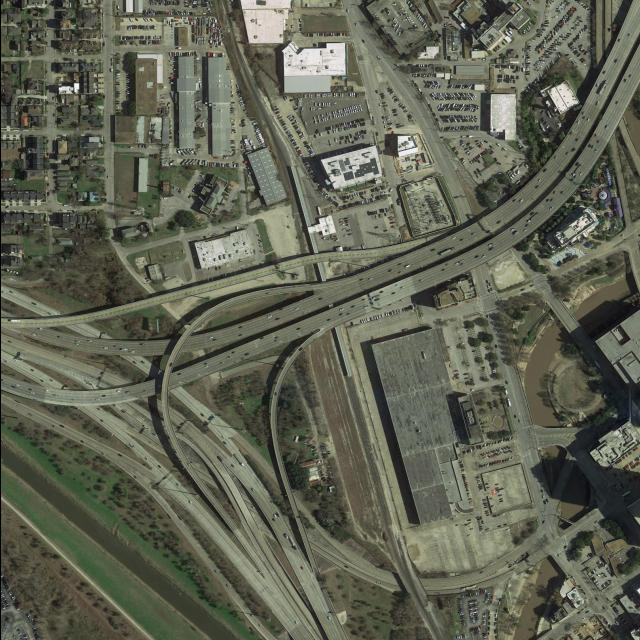large-vehicle: (233, 454, 244, 467), (598, 80, 608, 94), (288, 536, 297, 550), (526, 213, 538, 223), (571, 165, 581, 177), (440, 247, 454, 255), (460, 585, 475, 591), (539, 123, 545, 132), (506, 398, 511, 407), (371, 295, 380, 300), (512, 165, 518, 172), (503, 386, 507, 395), (169, 160, 175, 166), (546, 111, 551, 118), (194, 106, 201, 111), (186, 149, 191, 155), (182, 149, 188, 154), (180, 160, 186, 165), (184, 160, 190, 165), (191, 160, 197, 165), (188, 160, 194, 165), (194, 100, 201, 104), (179, 150, 184, 155), (512, 232, 518, 236), (505, 31, 509, 37), (197, 160, 201, 166), (328, 140, 331, 147), (10, 320, 20, 322), (507, 27, 512, 31), (405, 264, 410, 268), (509, 31, 513, 35), (189, 149, 193, 153), (258, 141, 263, 144), (258, 139, 263, 142), (257, 137, 262, 140), (256, 135, 261, 138), (255, 134, 260, 137), (176, 23, 182, 25), (193, 58, 199, 60), (252, 146, 255, 150), (175, 47, 180, 49), (204, 161, 206, 166), (244, 139, 248, 141), (243, 144, 248, 145), (244, 142, 248, 143)
small-vehicle: (297, 347, 302, 352), (116, 453, 121, 457), (342, 234, 347, 238), (461, 96, 465, 101), (389, 221, 394, 225), (139, 360, 144, 364), (287, 135, 292, 139), (285, 130, 290, 134), (276, 116, 281, 120), (283, 127, 288, 131), (282, 96, 286, 101), (128, 443, 133, 447), (374, 298, 379, 302), (527, 21, 531, 26), (525, 28, 530, 32), (489, 58, 494, 62), (388, 189, 392, 193), (323, 194, 327, 198), (333, 196, 337, 200), (329, 199, 333, 203), (471, 96, 475, 100), (469, 96, 473, 100), (466, 96, 470, 100), (464, 97, 468, 101), (458, 96, 462, 100), (455, 96, 459, 100), (447, 95, 451, 99), (466, 93, 470, 97), (445, 96, 449, 100), (443, 96, 447, 100), (441, 96, 445, 100), (463, 93, 467, 97), (458, 85, 462, 89), (460, 92, 464, 96), (449, 107, 453, 111), (451, 104, 455, 108), (460, 104, 464, 108), (449, 85, 453, 89), (408, 4, 412, 8), (394, 21, 398, 25), (435, 38, 439, 42), (428, 85, 432, 89), (413, 83, 417, 87), (422, 95, 426, 99), (425, 100, 429, 104), (177, 189, 181, 193), (114, 345, 118, 349), (148, 18, 152, 22), (143, 18, 147, 22), (176, 149, 180, 153), (280, 121, 284, 125), (302, 140, 306, 144), (303, 142, 307, 146), (310, 154, 314, 158), (460, 115, 464, 119), (284, 534, 288, 538), (248, 627, 252, 631), (175, 482, 179, 486), (507, 449, 511, 453), (350, 305, 354, 309), (575, 631, 579, 635), (595, 581, 599, 585), (526, 26, 530, 30), (492, 48, 496, 52), (496, 45, 500, 49), (407, 118, 412, 121), (401, 180, 406, 183), (338, 221, 343, 224), (337, 219, 342, 222), (315, 183, 320, 186), (453, 96, 456, 101), (373, 226, 378, 229), (397, 31, 400, 36), (430, 108, 433, 113), (74, 340, 79, 343), (31, 302, 36, 305), (30, 333, 35, 336), (3, 360, 8, 363), (47, 313, 52, 316), (288, 137, 293, 140), (297, 153, 302, 156), (286, 115, 291, 118), (303, 144, 308, 147), (306, 148, 311, 151), (309, 153, 314, 156), (275, 512, 278, 517), (362, 306, 367, 309), (279, 308, 284, 311), (367, 278, 372, 281), (358, 278, 363, 281), (402, 329, 407, 332), (542, 500, 545, 505), (267, 316, 272, 319), (499, 69, 504, 72), (500, 42, 505, 45), (394, 100, 398, 103), (407, 116, 411, 119), (403, 110, 407, 113), (402, 108, 406, 111), (399, 105, 403, 108), (397, 103, 401, 106), (393, 98, 396, 102), (392, 96, 396, 99), (390, 92, 394, 95), (388, 91, 392, 94), (387, 89, 391, 92), (386, 87, 390, 90), (335, 239, 339, 242), (332, 235, 336, 238), (379, 93, 383, 96), (347, 233, 351, 236), (378, 103, 381, 107), (371, 116, 374, 120), (382, 121, 385, 125), (383, 125, 386, 129), (380, 95, 384, 98), (371, 194, 374, 198), (343, 217, 347, 220), (319, 190, 323, 193), (325, 196, 329, 199), (335, 205, 339, 208), (353, 193, 356, 197), (337, 110, 340, 114), (351, 109, 354, 113), (321, 118, 324, 122), (317, 119, 320, 123), (316, 115, 319, 119), (364, 130, 367, 134), (348, 139, 351, 143), (344, 140, 347, 144), (329, 126, 332, 130), (451, 96, 454, 100), (438, 96, 441, 100), (436, 97, 439, 101), (433, 96, 436, 100), (390, 225, 394, 228), (382, 229, 386, 232), (456, 85, 459, 89), (461, 85, 464, 89), (468, 85, 471, 89), (433, 92, 436, 96), (438, 93, 441, 97), (451, 93, 454, 97), (453, 92, 456, 96), (437, 108, 441, 111), (456, 108, 459, 112), (452, 107, 455, 111), (442, 108, 446, 111), (440, 108, 443, 112), (441, 115, 444, 119), (448, 115, 451, 119), (451, 115, 454, 119), (453, 115, 456, 119), (458, 108, 462, 111), (437, 105, 440, 109), (463, 104, 466, 108), (440, 104, 443, 108), (447, 104, 450, 108), (458, 104, 461, 108), (468, 104, 471, 108), (474, 105, 477, 109), (470, 108, 473, 112), (416, 14, 419, 18), (419, 17, 422, 21), (420, 19, 423, 23), (424, 24, 427, 28), (433, 31, 436, 35), (446, 85, 450, 88), (395, 29, 398, 33), (393, 25, 396, 29), (391, 24, 394, 28), (397, 25, 400, 29), (393, 19, 396, 23), (392, 18, 395, 22), (387, 11, 390, 15), (436, 34, 440, 37), (437, 36, 440, 40), (424, 84, 427, 88), (437, 122, 440, 126), (422, 80, 425, 84), (428, 81, 431, 85), (431, 81, 434, 85), (436, 81, 439, 85), (426, 84, 429, 88), (433, 85, 436, 89), (436, 85, 439, 89), (481, 58, 485, 61), (432, 113, 435, 117), (427, 104, 430, 108), (418, 74, 421, 78), (422, 74, 425, 78), (417, 88, 420, 92), (115, 58, 119, 61), (175, 188, 178, 192), (179, 190, 182, 194), (169, 11, 172, 15), (131, 361, 135, 364), (139, 343, 143, 346), (74, 343, 78, 346), (1, 291, 5, 294), (12, 359, 16, 362), (145, 18, 149, 21), (121, 18, 124, 22), (106, 175, 109, 179), (92, 157, 96, 160), (175, 12, 178, 16), (182, 12, 185, 16), (297, 151, 301, 154), (291, 140, 295, 143), (295, 148, 299, 151), (296, 150, 300, 153), (288, 117, 292, 120), (290, 122, 294, 125), (292, 125, 296, 128), (294, 128, 298, 131), (295, 130, 299, 133), (286, 132, 290, 135), (297, 133, 301, 136), (235, 91, 239, 94), (274, 108, 278, 111), (275, 111, 279, 114), (276, 115, 280, 118), (278, 119, 282, 122), (280, 123, 284, 126), (282, 126, 286, 129), (296, 131, 300, 134), (298, 135, 302, 138), (299, 137, 303, 140), (294, 120, 297, 124), (305, 146, 309, 149), (301, 132, 304, 136), (285, 95, 288, 99), (292, 106, 296, 109), (293, 108, 297, 111), (303, 121, 306, 125), (173, 17, 179, 19), (240, 104, 244, 107), (239, 102, 243, 105), (238, 100, 242, 103), (240, 119, 244, 122), (240, 122, 244, 125), (463, 115, 466, 119), (271, 519, 275, 522), (327, 616, 330, 620), (251, 488, 254, 492), (200, 413, 203, 417), (221, 436, 225, 439), (133, 475, 136, 479), (144, 457, 148, 460), (186, 462, 189, 466), (481, 457, 485, 460), (343, 565, 347, 568), (469, 449, 472, 453), (478, 445, 481, 449), (485, 443, 488, 447), (479, 453, 483, 456), (468, 115, 471, 119), (390, 292, 394, 295), (394, 284, 398, 287), (388, 269, 392, 272), (397, 263, 401, 266), (365, 318, 368, 322), (377, 315, 380, 319), (380, 314, 383, 318), (386, 312, 389, 316), (273, 336, 277, 339), (258, 242, 262, 245), (258, 245, 262, 248), (259, 250, 263, 253), (275, 318, 279, 321), (295, 328, 299, 331), (339, 308, 343, 311), (338, 313, 342, 316), (345, 313, 349, 316), (390, 311, 393, 315), (504, 381, 507, 385), (59, 425, 63, 428), (7, 591, 11, 594), (8, 593, 12, 596), (401, 308, 404, 312), (456, 281, 460, 284), (485, 463, 488, 467), (568, 634, 572, 637), (581, 618, 585, 621), (479, 590, 482, 594), (584, 611, 588, 614), (614, 622, 618, 625), (566, 558, 569, 562), (563, 545, 566, 549), (545, 499, 548, 503), (541, 520, 544, 524), (467, 522, 471, 525), (597, 560, 600, 564), (589, 575, 593, 578), (593, 579, 596, 583), (498, 498, 502, 501), (495, 460, 498, 464), (459, 635, 462, 639), (259, 337, 263, 340), (530, 39, 534, 42), (517, 146, 521, 149), (519, 146, 522, 150), (512, 160, 516, 163), (545, 125, 549, 128), (543, 121, 546, 125), (494, 47, 498, 50), (537, 33, 541, 36), (556, 54, 560, 57), (549, 51, 553, 54), (546, 65, 549, 69), (536, 77, 539, 81), (539, 74, 542, 78), (516, 144, 520, 147), (332, 238, 337, 240), (386, 123, 391, 125), (391, 109, 396, 111), (375, 210, 377, 215), (380, 192, 385, 194), (398, 200, 400, 205), (387, 217, 392, 219), (316, 129, 318, 134), (444, 17, 449, 19), (167, 11, 169, 16), (138, 144, 140, 149), (115, 109, 120, 111), (162, 86, 167, 88), (102, 347, 107, 349), (129, 351, 134, 353), (56, 336, 61, 338), (288, 13, 293, 15), (173, 20, 178, 22), (294, 308, 299, 310), (481, 621, 486, 623), (524, 73, 529, 75), (498, 64, 500, 69), (553, 16, 558, 18), (406, 114, 409, 117), (401, 106, 404, 109), (361, 40, 364, 43), (370, 198, 373, 201), (378, 187, 381, 190), (348, 195, 351, 198), (405, 158, 408, 161), (354, 23, 357, 26), (331, 112, 334, 115), (339, 110, 342, 113), (340, 113, 343, 116), (342, 113, 345, 116), (356, 132, 359, 135), (313, 135, 316, 138), (319, 133, 322, 136), (326, 131, 329, 134), (431, 97, 434, 100), (472, 94, 475, 97), (436, 94, 439, 97), (463, 85, 466, 88), (466, 85, 469, 88), (431, 94, 434, 97), (441, 94, 444, 97), (446, 93, 449, 96), (449, 94, 452, 97), (456, 93, 459, 96), (458, 93, 461, 96), (454, 108, 457, 111), (447, 108, 450, 111), (445, 108, 448, 111), (439, 116, 442, 119), (461, 108, 464, 111), (444, 116, 447, 119), (446, 116, 449, 119), (454, 104, 457, 107), (466, 108, 469, 111), (472, 105, 475, 108), (476, 106, 479, 109), (472, 109, 475, 112), (468, 108, 471, 111), (454, 85, 457, 88), (406, 1, 409, 4), (417, 16, 420, 19), (421, 21, 424, 24), (422, 23, 425, 26), (386, 9, 389, 12), (426, 81, 429, 84), (431, 85, 434, 88), (437, 86, 440, 89), (434, 118, 437, 121), (157, 465, 160, 468), (134, 18, 137, 21), (129, 19, 132, 22), (290, 139, 293, 142), (292, 142, 295, 145), (273, 106, 276, 109), (376, 56, 379, 59), (291, 116, 294, 119), (186, 12, 189, 15), (465, 115, 468, 118), (225, 584, 228, 587), (294, 621, 297, 624), (300, 567, 303, 570), (230, 464, 233, 467), (273, 515, 276, 518), (316, 461, 319, 464), (318, 468, 321, 471), (319, 472, 322, 475), (29, 620, 32, 623), (27, 616, 30, 619), (2, 607, 5, 610), (148, 441, 151, 444), (188, 500, 191, 503), (16, 608, 19, 611), (503, 447, 506, 450), (506, 446, 509, 449), (484, 456, 487, 459), (487, 455, 490, 458), (478, 465, 481, 468), (480, 465, 483, 468), (495, 449, 498, 452), (491, 442, 494, 445), (475, 446, 478, 449), (504, 438, 507, 441), (11, 598, 14, 601), (379, 291, 382, 294), (468, 279, 471, 282), (513, 415, 516, 418), (49, 379, 52, 382), (468, 281, 471, 284), (570, 576, 573, 579), (573, 579, 576, 582), (574, 630, 577, 633), (577, 633, 580, 636), (594, 598, 597, 601), (637, 457, 640, 460), (631, 461, 634, 464), (619, 470, 622, 473), (616, 613, 619, 616), (606, 623, 609, 626), (584, 606, 587, 609), (602, 584, 605, 587), (594, 521, 597, 524), (595, 562, 598, 565), (592, 570, 595, 573), (597, 575, 600, 578), (600, 564, 603, 567), (606, 567, 609, 570), (607, 569, 610, 572), (621, 561, 624, 564), (501, 460, 504, 463), (510, 457, 513, 460), (463, 635, 466, 638), (536, 35, 539, 38), (551, 61, 554, 64), (540, 30, 543, 33), (404, 112, 408, 114), (373, 120, 375, 124), (387, 126, 391, 128), (385, 116, 389, 118), (398, 123, 402, 125), (382, 105, 386, 107), (381, 102, 385, 104), (392, 111, 396, 113), (346, 230, 350, 232), (375, 215, 377, 219), (383, 209, 385, 213), (365, 199, 367, 203), (400, 179, 404, 181), (400, 176, 404, 178), (371, 14, 375, 16), (374, 17, 378, 19), (341, 229, 345, 231), (320, 192, 324, 194), (343, 220, 347, 222), (343, 201, 347, 203), (339, 93, 341, 97), (329, 116, 331, 120), (328, 112, 330, 116), (337, 114, 339, 118), (339, 114, 341, 118), (354, 109, 356, 113), (314, 120, 316, 124), (346, 126, 348, 130), (371, 142, 373, 146), (360, 135, 362, 139), (355, 132, 357, 136), (339, 123, 341, 127), (341, 123, 343, 127), (348, 121, 350, 125), (357, 123, 359, 127), (348, 125, 350, 129), (347, 135, 349, 139), (343, 108, 345, 112), (354, 105, 356, 109), (334, 138, 336, 142), (338, 128, 340, 132), (375, 19, 379, 21), (381, 27, 385, 29), (385, 32, 389, 34), (458, 115, 460, 119), (456, 104, 458, 108), (466, 104, 468, 108), (470, 104, 472, 108), (406, 17, 410, 19), (408, 20, 412, 22), (409, 22, 413, 24), (413, 27, 417, 29), (402, 19, 406, 21), (385, 33, 389, 35), (390, 40, 394, 42), (391, 42, 395, 44), (399, 8, 403, 10), (434, 43, 438, 45), (465, 59, 469, 61), (446, 22, 450, 24), (447, 24, 451, 26), (449, 26, 453, 28), (451, 27, 455, 29), (394, 64, 398, 66), (412, 73, 414, 77), (414, 73, 416, 77), (341, 93, 343, 97), (335, 93, 337, 97), (115, 64, 119, 66), (155, 36, 157, 40), (153, 36, 155, 40), (149, 36, 151, 40), (147, 36, 149, 40), (145, 36, 147, 40), (114, 62, 118, 64), (115, 66, 119, 68), (115, 68, 119, 70), (115, 78, 119, 80), (157, 36, 159, 40), (123, 36, 125, 40), (155, 41, 157, 45), (149, 40, 151, 44), (151, 40, 153, 44), (115, 87, 119, 89), (195, 217, 199, 219), (212, 233, 216, 235), (150, 11, 152, 15), (152, 12, 154, 16), (141, 144, 143, 148), (172, 9, 176, 11), (144, 144, 146, 148), (115, 93, 119, 95), (125, 96, 129, 98), (115, 107, 119, 109), (125, 90, 129, 92), (125, 81, 129, 83), (167, 102, 169, 106), (87, 340, 91, 342), (52, 113, 54, 117), (7, 341, 11, 343), (37, 328, 41, 330), (127, 26, 129, 30), (129, 26, 131, 30), (119, 36, 121, 40), (8, 178, 12, 180), (145, 280, 149, 282), (110, 69, 112, 73), (110, 58, 112, 62), (102, 13, 104, 17), (180, 12, 182, 16), (292, 144, 296, 146), (294, 147, 298, 149), (289, 119, 293, 121), (293, 127, 297, 129), (229, 146, 233, 148), (236, 93, 240, 95), (172, 69, 176, 71), (185, 12, 187, 16), (303, 94, 305, 98), (329, 93, 331, 97), (297, 102, 301, 104), (229, 142, 233, 144), (229, 140, 233, 142), (242, 135, 246, 137), (178, 52, 180, 56), (182, 53, 184, 57), (188, 52, 190, 56), (169, 64, 173, 66), (174, 52, 176, 56), (199, 83, 201, 87), (230, 80, 232, 84), (187, 6, 191, 8), (187, 4, 191, 6), (169, 52, 171, 56), (196, 0, 200, 2), (171, 24, 173, 28), (213, 157, 217, 159), (209, 163, 211, 167), (213, 163, 215, 167), (217, 163, 219, 167), (227, 163, 229, 167), (229, 114, 233, 116), (240, 125, 244, 127), (238, 97, 242, 99), (250, 506, 254, 508), (15, 629, 19, 631), (28, 619, 32, 621), (32, 628, 36, 630), (23, 637, 27, 639), (17, 633, 21, 635), (4, 604, 8, 606), (32, 631, 36, 633), (100, 453, 104, 455), (376, 582, 380, 584), (500, 448, 504, 450), (502, 451, 506, 453), (489, 451, 493, 453), (489, 442, 491, 446), (487, 452, 491, 454), (500, 439, 502, 443), (508, 437, 510, 441), (26, 615, 30, 617), (364, 319, 366, 323), (397, 272, 401, 274), (360, 320, 362, 324), (369, 317, 371, 321), (373, 316, 375, 320), (375, 315, 377, 319), (384, 312, 386, 316), (388, 312, 390, 316), (360, 299, 364, 301), (265, 293, 269, 295), (326, 319, 330, 321), (318, 298, 322, 300), (10, 597, 14, 599), (464, 378, 468, 380), (463, 373, 467, 375), (458, 338, 462, 340), (440, 269, 444, 271), (398, 309, 400, 313), (411, 305, 413, 309), (399, 287, 403, 289), (418, 280, 422, 282), (430, 249, 434, 251), (449, 364, 451, 368), (453, 370, 457, 372), (447, 346, 451, 348), (454, 263, 458, 265), (321, 451, 325, 453), (434, 593, 438, 595), (496, 609, 498, 613), (304, 442, 308, 444), (490, 600, 492, 604), (542, 494, 544, 498), (488, 612, 490, 616), (471, 600, 475, 602), (472, 608, 476, 610), (473, 615, 477, 617), (473, 617, 477, 619), (621, 468, 623, 472), (540, 489, 542, 493), (492, 515, 496, 517), (496, 514, 500, 516), (500, 513, 504, 515), (505, 529, 509, 531), (485, 514, 489, 516), (468, 502, 472, 504), (478, 489, 482, 491), (494, 487, 498, 489), (485, 529, 489, 531), (474, 591, 476, 595), (474, 587, 478, 589), (478, 572, 482, 574), (460, 624, 464, 626), (460, 620, 464, 622), (486, 593, 490, 595), (484, 599, 488, 601), (475, 517, 479, 519), (478, 630, 480, 634), (481, 623, 485, 625), (481, 619, 485, 621), (483, 601, 487, 603), (230, 352, 234, 354), (522, 62, 524, 66), (522, 48, 524, 52), (525, 61, 529, 63), (525, 59, 529, 61), (526, 44, 530, 46), (526, 50, 530, 52), (498, 192, 500, 196), (508, 65, 510, 69), (551, 49, 555, 51), (537, 65, 541, 67), (540, 62, 544, 64), (547, 53, 551, 55), (534, 69, 538, 71), (538, 32, 542, 34), (541, 29, 545, 31), (543, 25, 547, 27), (558, 6, 562, 8), (564, 4, 568, 6), (565, 2, 569, 4), (375, 90, 377, 93), (386, 118, 389, 120), (393, 114, 396, 116), (381, 97, 384, 99), (363, 122, 365, 125), (367, 199, 369, 202), (361, 201, 363, 204), (340, 224, 343, 226), (345, 224, 348, 226), (344, 222, 347, 224), (356, 193, 358, 196), (333, 115, 335, 118), (335, 115, 337, 118), (333, 111, 335, 114), (344, 112, 346, 115), (348, 111, 350, 114), (350, 110, 352, 113), (326, 113, 328, 116), (324, 118, 326, 121), (322, 103, 324, 106), (348, 93, 350, 96), (350, 93, 352, 96), (310, 107, 312, 110), (314, 103, 316, 106), (318, 103, 320, 106), (326, 103, 328, 106), (328, 103, 330, 106), (313, 117, 315, 120), (320, 114, 322, 117), (356, 109, 358, 112), (360, 108, 362, 111), (337, 124, 339, 127), (358, 136, 360, 139), (369, 143, 371, 146), (356, 137, 358, 140), (343, 123, 345, 126), (345, 123, 347, 126), (355, 124, 357, 127), (345, 108, 347, 111), (349, 107, 351, 110), (352, 106, 354, 109), (356, 105, 358, 108), (358, 105, 360, 108), (314, 131, 316, 134), (332, 130, 334, 133), (335, 129, 337, 132), (340, 128, 342, 131), (444, 93, 446, 96), (456, 116, 458, 119), (464, 108, 466, 111), (442, 105, 444, 108), (452, 85, 454, 88), (392, 3, 395, 5), (441, 128, 443, 131), (471, 59, 474, 61), (393, 69, 396, 71), (424, 74, 426, 77), (429, 74, 432, 76), (411, 80, 413, 83), (159, 36, 161, 39), (115, 70, 118, 72), (116, 73, 119, 75), (157, 41, 159, 44), (137, 36, 139, 39), (121, 37, 123, 40), (128, 37, 130, 40), (131, 36, 133, 39), (133, 36, 135, 39), (135, 36, 137, 39), (139, 36, 141, 39), (141, 36, 143, 39), (141, 41, 143, 44), (143, 41, 145, 44), (145, 41, 147, 44), (123, 42, 125, 45), (151, 2, 153, 5), (153, 2, 155, 5), (155, 2, 157, 5), (115, 97, 118, 99), (125, 42, 127, 45), (333, 93, 335, 96), (121, 349, 127, 350), (46, 153, 48, 156), (45, 33, 47, 36), (45, 71, 47, 74), (9, 291, 12, 293), (131, 26, 133, 29), (133, 26, 135, 29), (135, 26, 137, 29), (137, 26, 139, 29), (145, 26, 147, 29), (147, 26, 149, 29), (151, 26, 153, 29), (153, 26, 155, 29), (46, 193, 48, 196), (89, 165, 92, 167), (85, 158, 88, 160), (116, 12, 118, 15), (110, 63, 112, 66), (102, 43, 104, 46), (102, 34, 104, 37), (236, 85, 238, 88), (236, 89, 239, 91), (309, 95, 311, 98), (291, 25, 293, 28), (307, 33, 309, 36), (316, 33, 318, 36), (324, 33, 326, 36), (330, 33, 332, 36), (346, 9, 348, 12), (315, 94, 317, 97), (321, 94, 323, 97), (325, 94, 327, 97), (327, 94, 329, 97), (301, 107, 303, 110), (180, 53, 182, 56), (170, 56, 173, 58), (184, 5, 187, 7), (211, 163, 213, 166), (214, 569, 216, 572), (258, 624, 260, 627), (320, 460, 322, 463), (328, 474, 331, 476), (492, 454, 495, 456), (498, 449, 501, 451), (494, 453, 497, 455), (492, 450, 495, 452), (497, 453, 500, 455), (499, 452, 502, 454), (505, 451, 508, 453), (483, 464, 485, 467), (467, 449, 469, 452), (464, 450, 466, 453), (483, 444, 485, 447), (494, 441, 496, 444), (510, 437, 512, 440), (482, 453, 485, 455), (485, 452, 488, 454), (362, 320, 364, 323), (392, 311, 394, 314), (257, 240, 260, 242), (460, 343, 463, 345), (466, 330, 469, 332), (471, 350, 474, 352), (482, 370, 485, 372), (486, 315, 488, 318), (518, 419, 520, 422), (494, 345, 496, 348), (470, 390, 473, 392), (396, 310, 398, 313), (469, 285, 472, 287), (452, 377, 454, 380), (444, 264, 447, 266), (470, 287, 473, 289), (488, 462, 490, 465), (490, 462, 492, 465), (487, 627, 489, 630), (497, 602, 499, 605), (494, 614, 496, 617), (494, 623, 496, 626), (557, 554, 559, 557), (490, 596, 492, 599), (472, 602, 475, 604), (469, 614, 472, 616), (469, 612, 472, 614), (468, 607, 471, 609), (468, 605, 471, 607), (468, 603, 471, 605), (473, 610, 476, 612), (581, 609, 584, 611), (493, 461, 495, 464), (627, 464, 629, 467), (615, 612, 618, 614), (453, 515, 456, 517), (630, 462, 632, 465), (629, 463, 631, 466), (587, 555, 589, 558), (603, 619, 605, 622), (599, 574, 602, 576), (604, 564, 606, 567), (598, 565, 601, 567), (469, 616, 472, 618), (470, 620, 473, 622), (477, 522, 480, 524), (479, 530, 482, 532), (478, 526, 481, 528), (467, 535, 470, 537), (470, 528, 473, 530), (499, 500, 502, 502), (494, 484, 497, 486), (498, 460, 500, 463), (507, 458, 509, 461), (464, 482, 467, 484), (477, 482, 480, 484), (478, 484, 481, 486), (481, 521, 483, 524), (461, 594, 463, 597), (476, 592, 478, 595), (458, 610, 461, 612), (458, 606, 461, 608), (460, 617, 463, 619), (485, 595, 488, 597), (485, 597, 488, 599), (456, 636, 458, 639), (458, 636, 460, 639), (483, 636, 486, 638), (482, 635, 485, 637), (482, 633, 485, 635), (488, 632, 490, 635), (477, 627, 479, 630), (482, 617, 485, 619), (522, 56, 524, 59), (525, 71, 528, 73), (525, 69, 528, 71), (525, 57, 528, 59), (557, 123, 560, 125), (557, 125, 560, 127), (507, 80, 509, 83), (532, 38, 535, 40), (536, 67, 539, 69), (542, 60, 545, 62), (534, 65, 537, 67), (536, 61, 539, 63), (540, 56, 543, 58), (542, 54, 545, 56), (544, 52, 547, 54), (560, 10, 563, 12), (545, 68, 547, 71), (408, 28, 413, 29), (115, 113, 120, 114), (195, 79, 200, 80), (523, 68, 524, 73), (523, 30, 524, 35), (408, 121, 412, 122), (373, 16, 377, 17), (326, 117, 327, 121), (346, 112, 348, 114), (357, 109, 359, 111), (353, 93, 354, 97), (312, 108, 314, 110), (352, 121, 354, 123), (383, 31, 387, 32), (407, 19, 411, 20), (412, 25, 416, 26), (386, 36, 390, 37), (388, 37, 392, 38), (389, 39, 393, 40), (392, 44, 396, 45), (115, 72, 119, 73), (115, 76, 119, 77), (115, 82, 119, 83), (115, 84, 119, 85), (147, 41, 148, 45), (147, 9, 151, 10), (163, 0, 164, 4), (114, 101, 118, 102), (114, 103, 118, 104), (125, 99, 129, 100), (129, 147, 133, 148), (122, 41, 123, 45), (52, 97, 53, 101), (119, 42, 121, 44), (89, 178, 93, 179), (63, 205, 67, 206), (287, 135, 291, 136), (229, 145, 233, 146), (289, 11, 293, 12), (297, 99, 301, 100), (298, 101, 302, 102), (297, 105, 301, 106), (186, 52, 187, 56), (190, 52, 191, 56), (192, 52, 193, 56), (196, 81, 200, 82), (231, 91, 232, 95), (231, 132, 235, 133), (231, 126, 235, 127), (176, 52, 177, 56), (172, 52, 173, 56), (192, 3, 196, 4), (196, 2, 200, 3), (222, 53, 223, 57), (216, 163, 217, 167), (223, 158, 227, 159), (222, 163, 223, 167), (250, 614, 252, 616), (490, 455, 492, 457), (497, 441, 499, 443), (491, 370, 495, 371), (473, 619, 477, 620), (477, 525, 481, 526), (489, 498, 491, 500), (484, 511, 488, 512), (504, 459, 506, 461), (458, 462, 462, 463), (483, 501, 485, 503), (477, 486, 481, 487), (469, 593, 470, 597), (460, 623, 464, 624), (525, 63, 529, 64), (525, 53, 529, 54), (558, 12, 560, 14), (544, 23, 548, 24), (560, 5, 564, 6), (561, 3, 565, 4), (562, 7, 566, 8), (350, 199, 353, 200), (317, 108, 320, 109), (324, 103, 325, 106), (332, 103, 335, 104), (347, 108, 348, 111), (351, 106, 352, 109), (404, 14, 407, 15), (403, 12, 406, 13), (439, 137, 442, 138), (115, 61, 118, 62), (115, 90, 118, 91), (126, 37, 127, 40), (130, 37, 131, 40), (139, 41, 140, 44), (115, 92, 118, 93), (150, 2, 151, 5), (155, 12, 156, 15), (158, 11, 159, 14), (115, 96, 118, 97), (126, 93, 129, 94), (126, 89, 129, 90), (126, 87, 129, 88), (126, 85, 129, 86), (126, 79, 129, 80), (142, 26, 143, 29), (140, 26, 141, 29), (144, 26, 145, 29), (150, 26, 151, 29), (117, 6, 118, 9), (332, 33, 333, 36), (318, 94, 319, 97), (324, 94, 325, 97), (308, 94, 309, 97), (170, 59, 173, 60), (230, 120, 233, 121), (239, 124, 240, 127), (192, 1, 195, 2), (184, 4, 187, 5), (184, 2, 187, 3), (188, 3, 191, 4), (196, 6, 199, 7), (167, 21, 168, 24), (169, 22, 170, 25), (231, 106, 234, 107), (328, 472, 331, 473), (328, 476, 331, 477), (492, 372, 495, 373), (459, 264, 462, 265), (488, 622, 489, 625), (464, 489, 467, 490), (469, 611, 472, 612), (467, 601, 470, 602), (472, 604, 475, 605), (472, 606, 475, 607), (473, 612, 476, 613), (601, 577, 604, 578), (470, 618, 473, 619), (478, 528, 481, 529), (476, 521, 479, 522), (485, 513, 488, 514), (491, 506, 494, 507), (498, 495, 501, 496), (471, 622, 474, 623), (468, 499, 471, 500), (476, 479, 479, 480), (477, 481, 480, 482), (478, 488, 481, 489), (482, 500, 485, 501), (484, 590, 485, 593), (459, 614, 462, 615), (480, 517, 481, 520), (458, 612, 461, 613), (458, 604, 461, 605), (482, 616, 485, 617), (525, 67, 528, 68), (525, 55, 528, 56), (526, 48, 529, 49), (508, 75, 509, 78), (538, 60, 541, 61), (539, 64, 542, 65), (535, 63, 538, 64), (539, 58, 542, 59), (545, 57, 548, 58), (547, 55, 550, 56), (545, 51, 548, 52), (557, 9, 560, 10), (562, 9, 565, 10), (488, 617, 489, 619), (469, 609, 471, 610), (458, 603, 460, 604), (458, 601, 460, 602)
